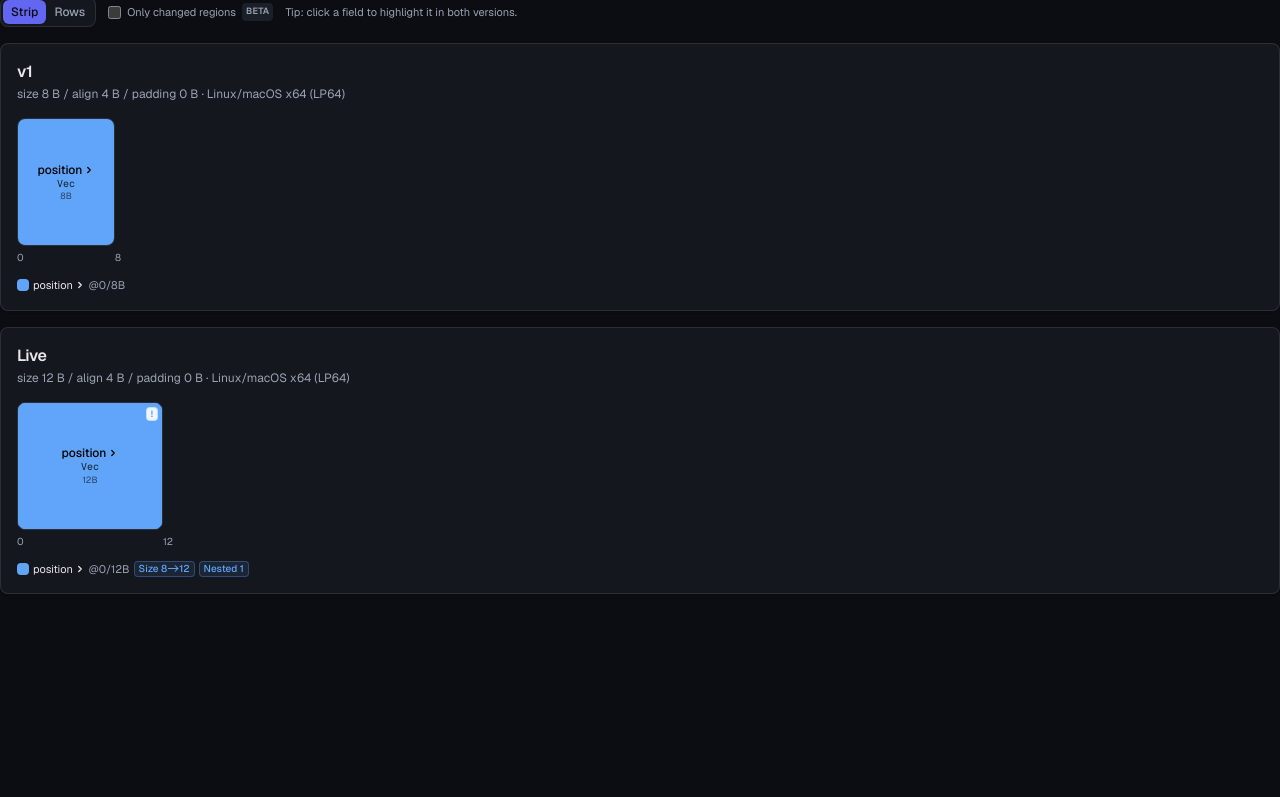
Test: <LayoutVisualizer mode='compare' /> nested structs › expands an inner From/To comparison and shows the added field
Click the element showing "position Vec 8B": (66, 182) top-left (18, 119), bottom-right (114, 245)
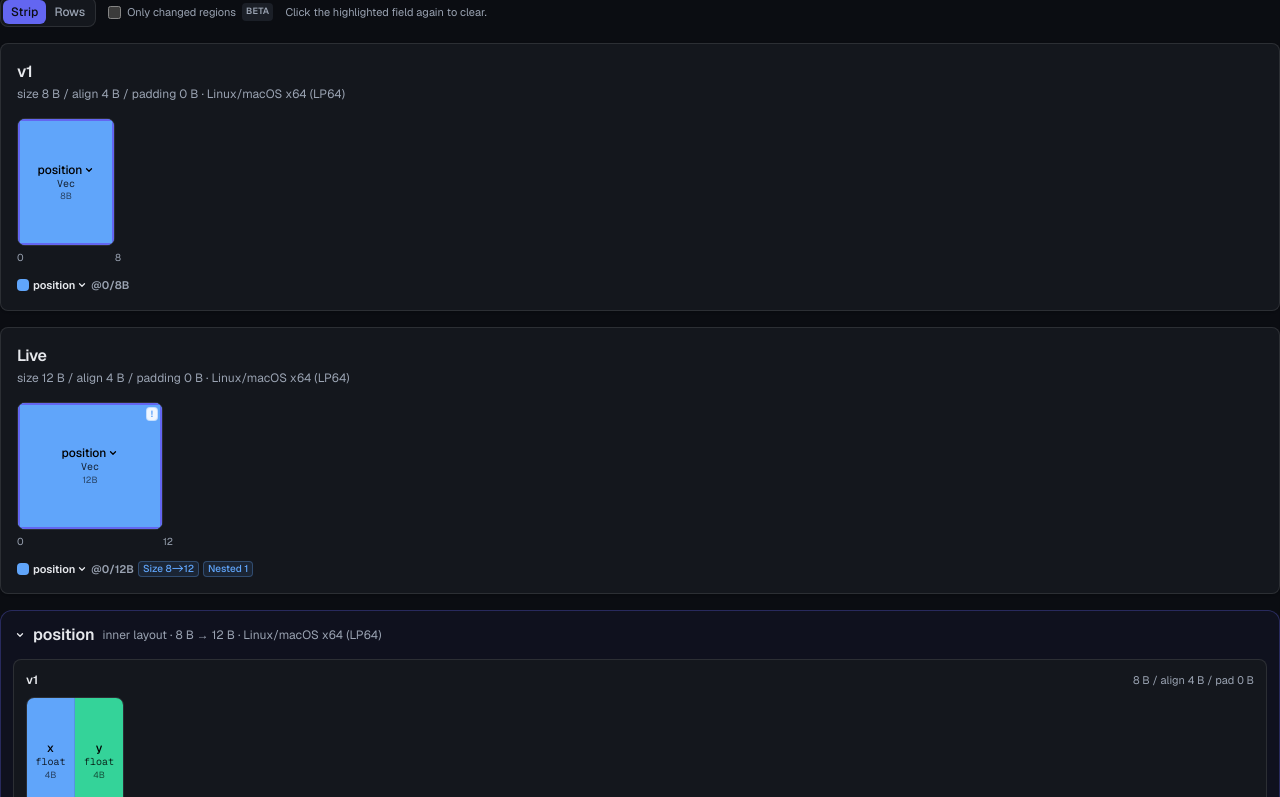
Expected: the text "inner layout · 8 B → 12 B · Linux/macOS x64 (LP64)" is shown, top-left (103, 627), bottom-right (381, 643)
Click the checkbox labelled "Only changed regions beta": (115, 12) top-left (108, 6), bottom-right (121, 18)
(page scrolled)
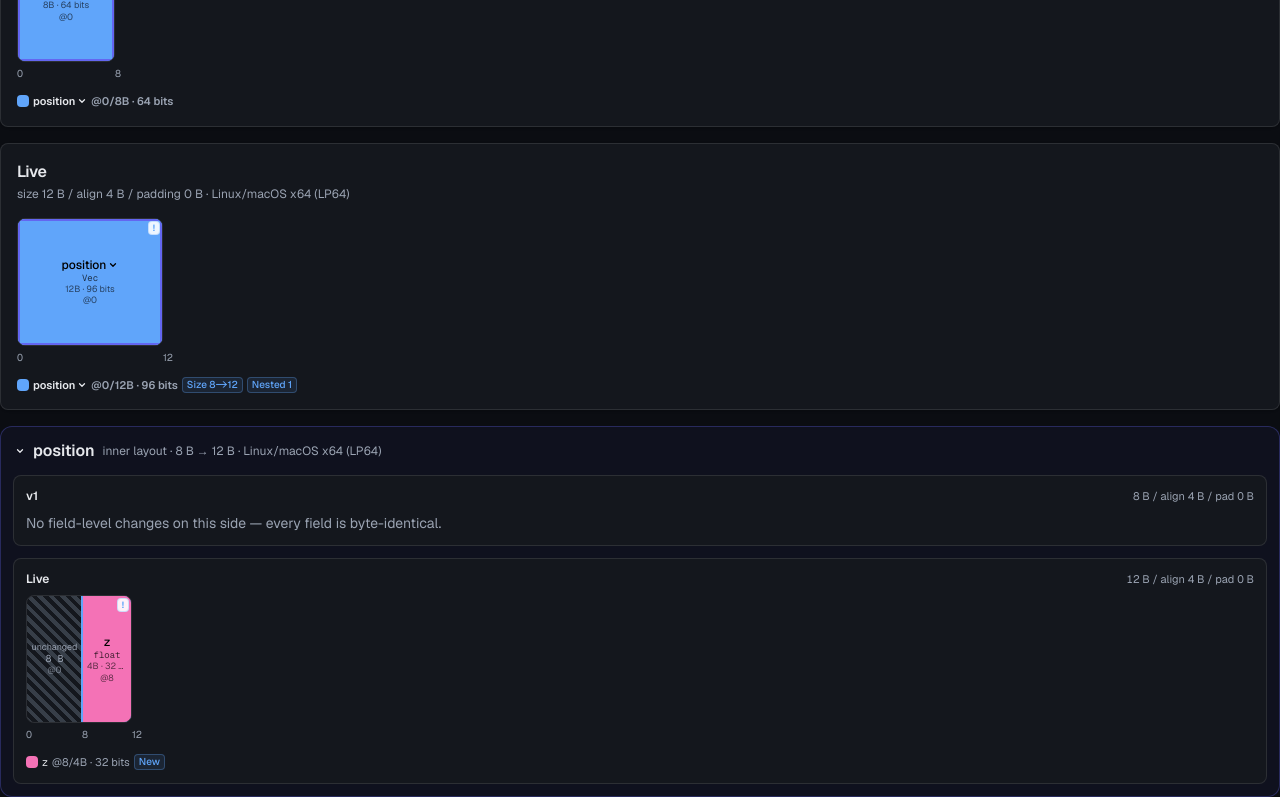
Expected: the text "z" next to "unchanged" is shown, top-left (104, 634), bottom-right (110, 650)
Expected: the text "No field-level changes on this side" is shown, top-left (26, 514), bottom-right (441, 532)
